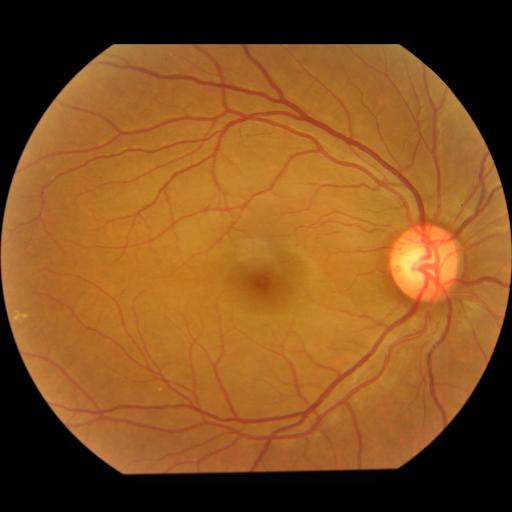Optic Cup: (398, 246, 442, 279)
Optic Disc: (390, 224, 461, 303)
